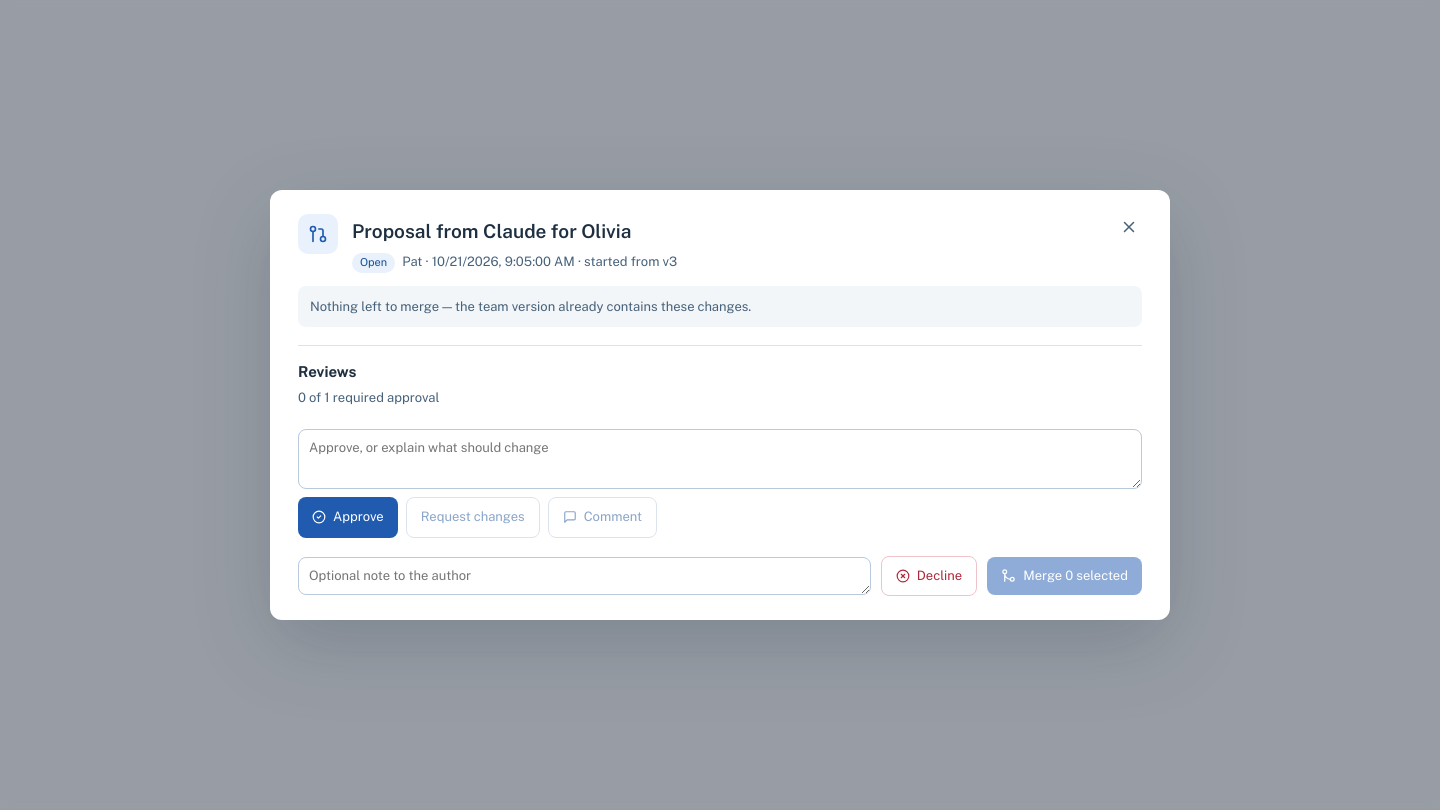
Test: reviewing a request an AI agent wrote › can be dismissed, and an ordinary request gets the same calm message
What coordinates should you click on to do the following:
click the button "Approve"
I would click on:
 (348, 517)
Its box is [298, 497, 398, 538].
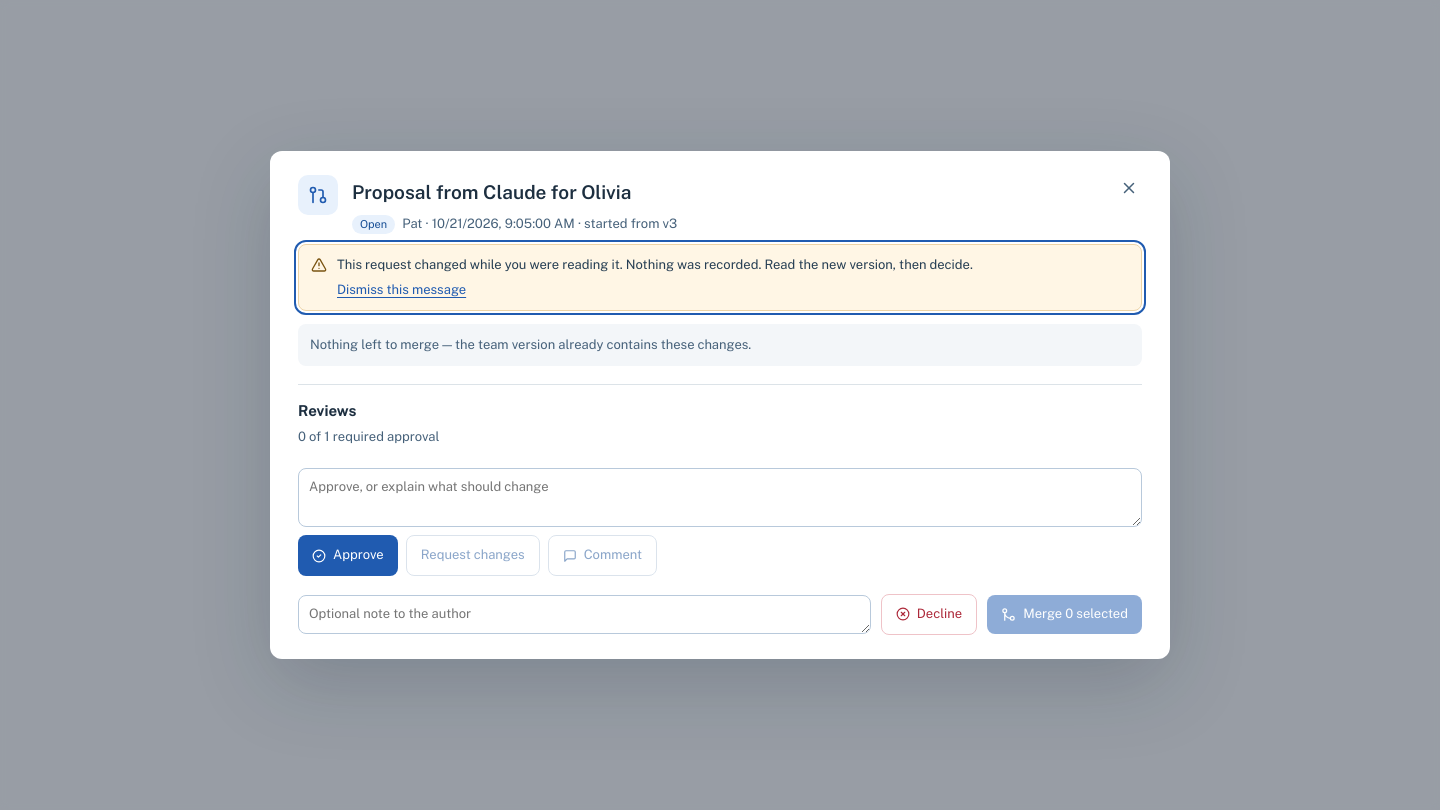
Expected: the message with test id "request-moved" is shown, [298, 244, 1142, 311]
Expected: the button "Dismiss this message" is shown
What coordinates should you click on to do the following:
click the button "Dismiss this message"
I would click on:
 (402, 290)
Its box is [337, 280, 466, 300].
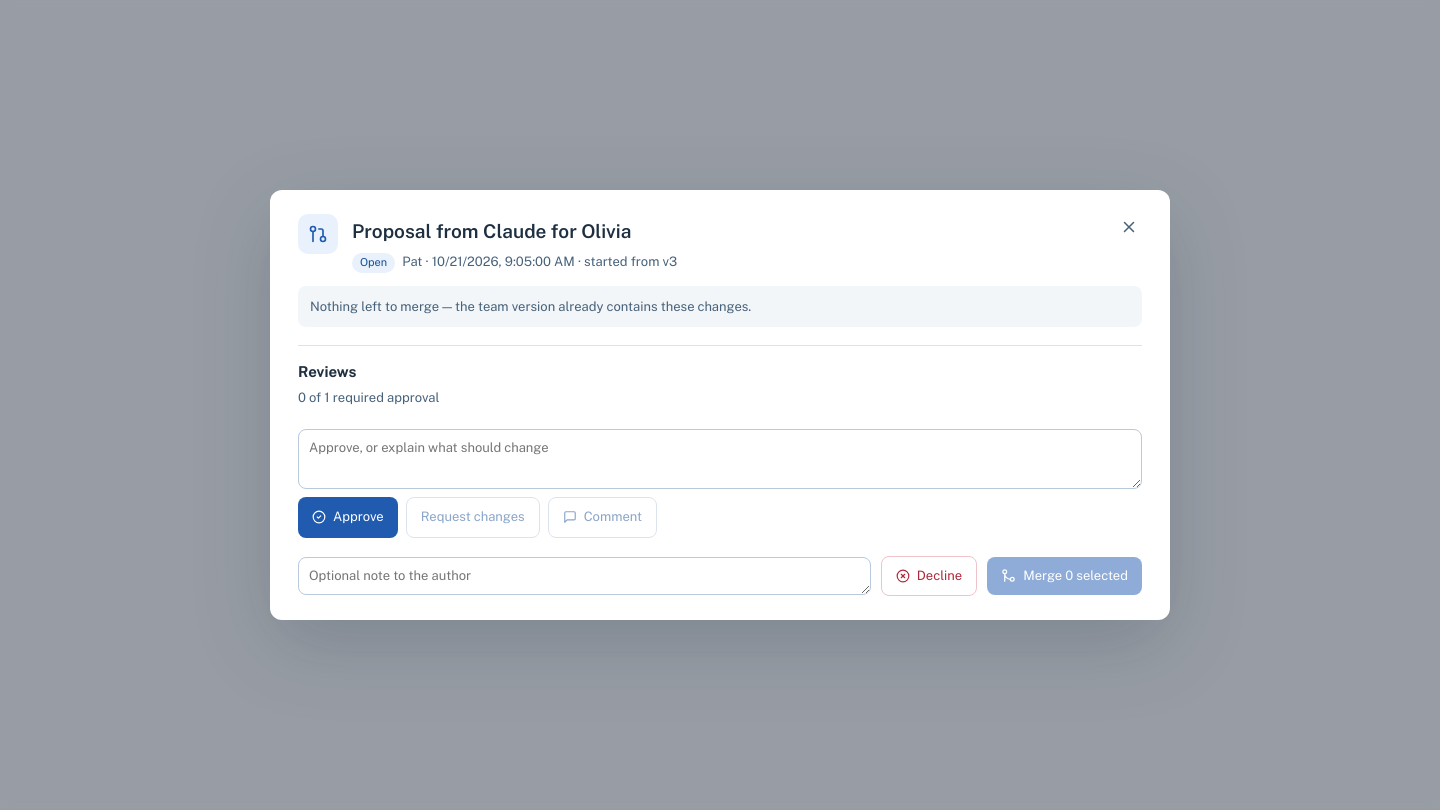
Expected: the message with test id "request-moved" is gone
